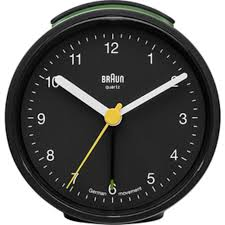alarm_clock: (2, 2, 223, 222)
